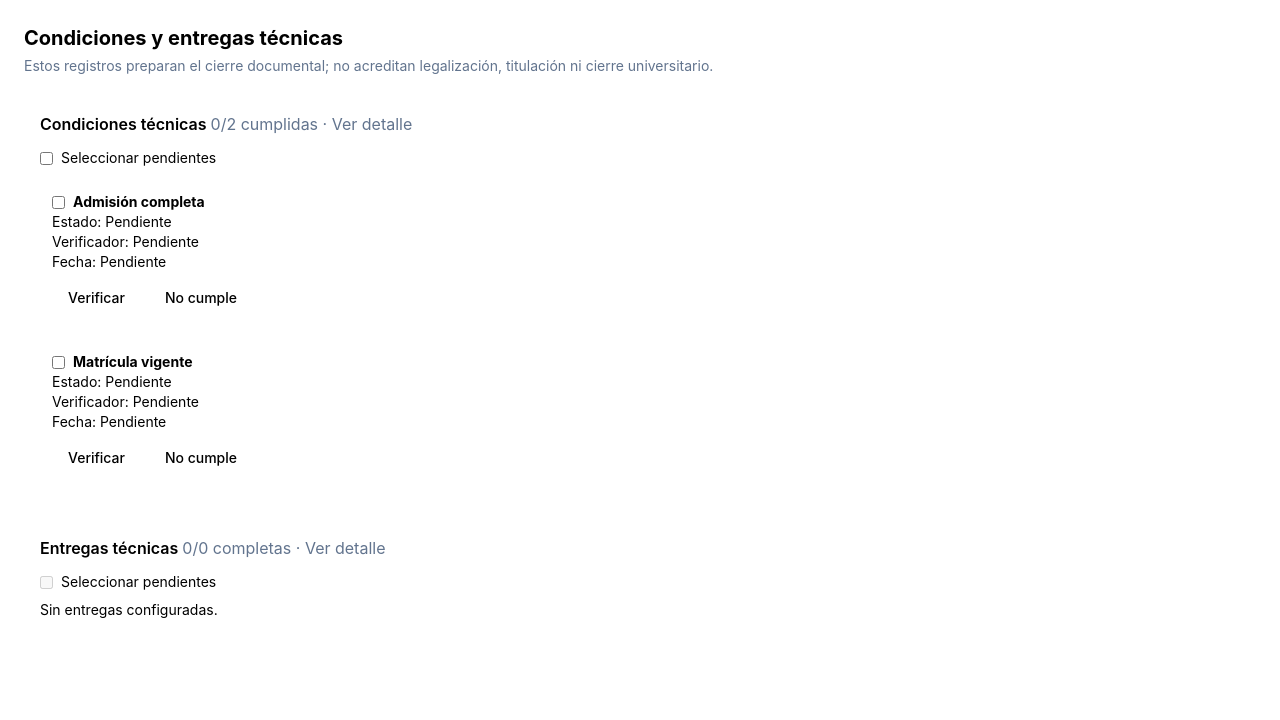
Test case: ClosureRequirements › Cancelar cierra el formulario sin llamar a la API
expect the text "Admisión completa" is shown: met, box [73,192,205,212]
Step 1. Click the button "Verificar" below "Admisión completa" → (96, 298), box [52,280,141,316]
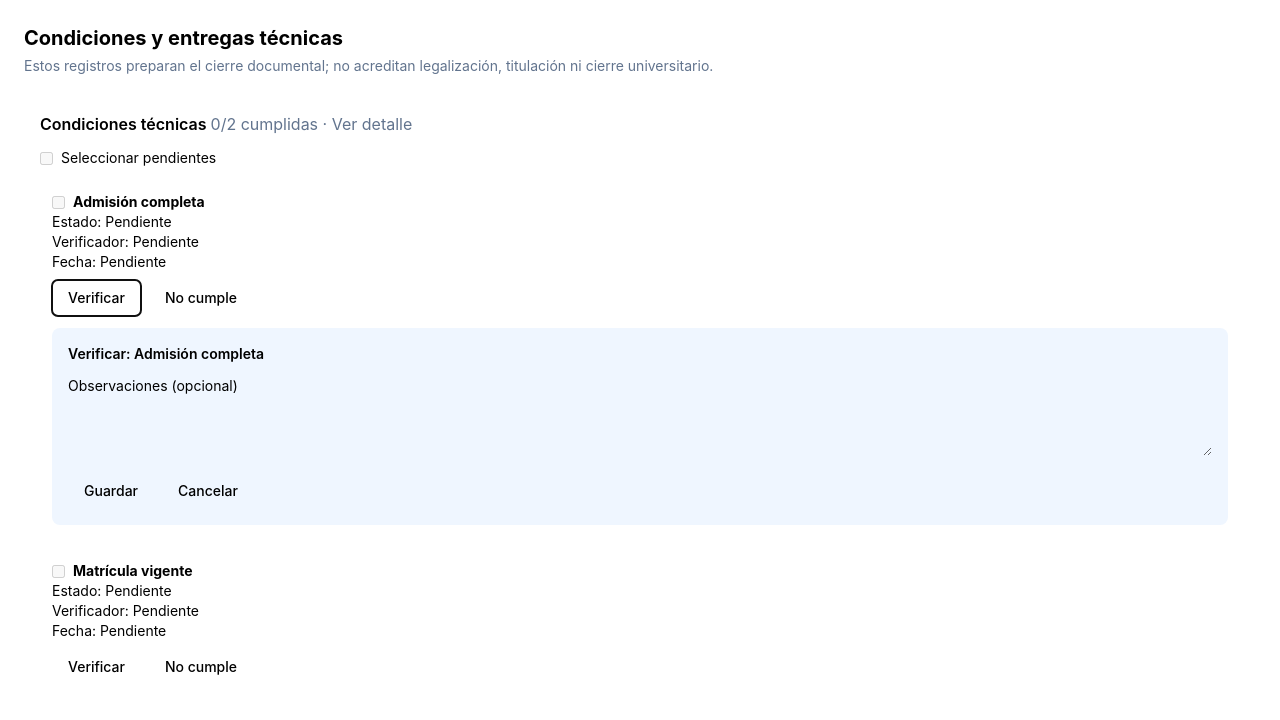
Step 2. Click the button "Cancelar" → (208, 491), box [162,473,254,509]
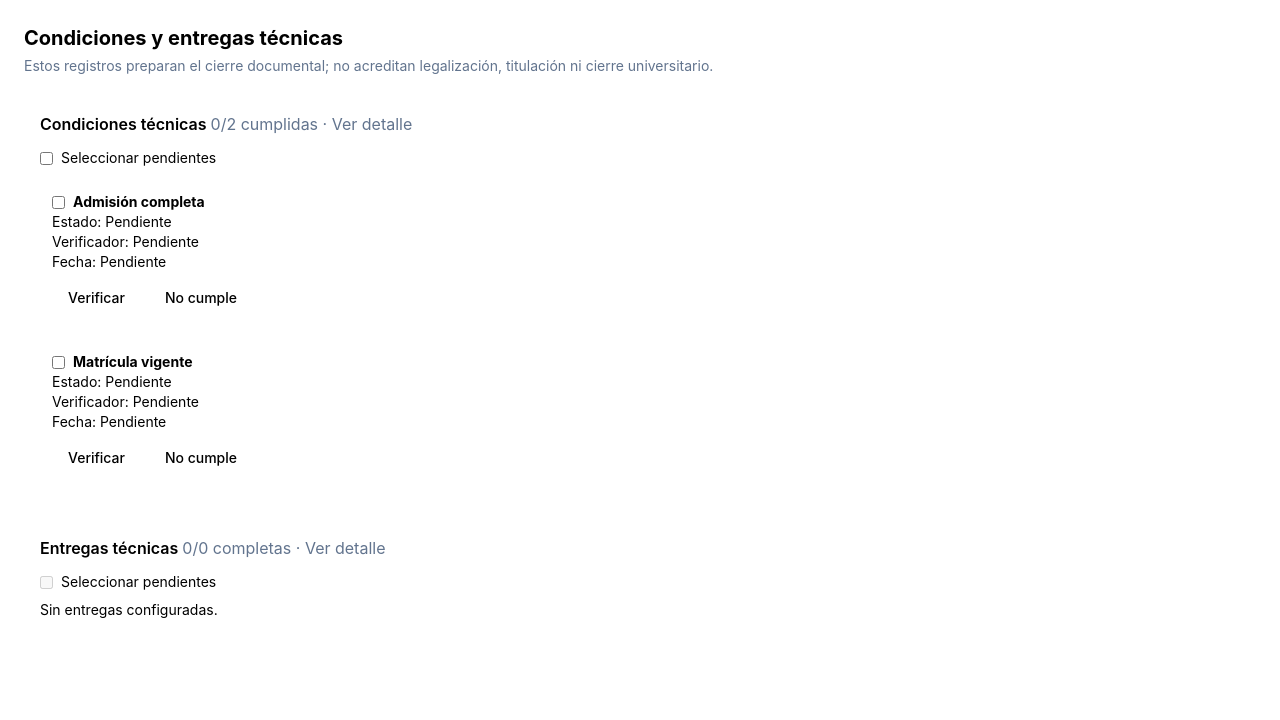
expect the form is gone: met
